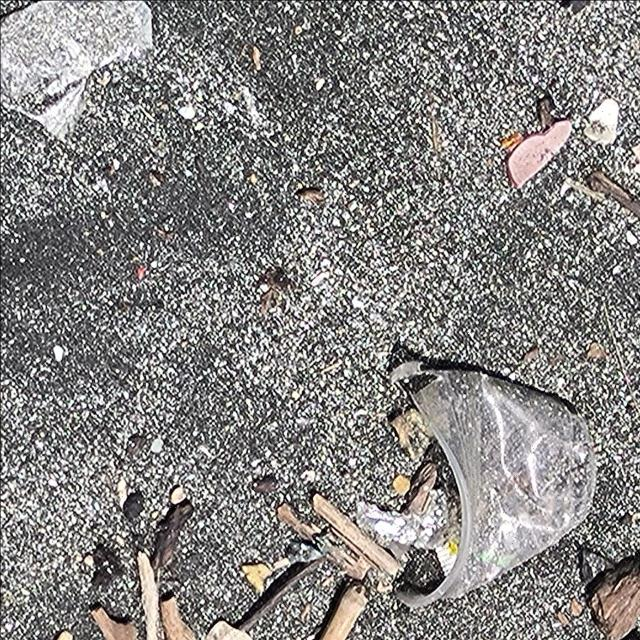plastic_waste: (394, 368, 598, 610)
